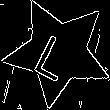L_NE: (32, 23, 83, 81)
